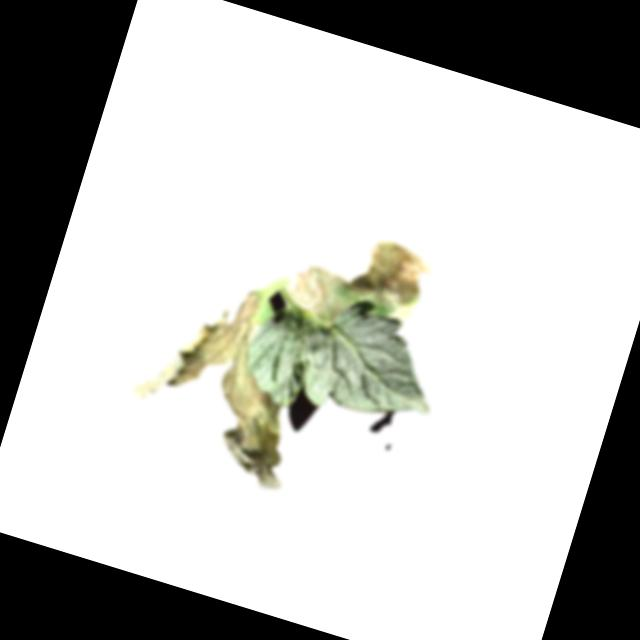Late_blight: (113, 265, 333, 495), (282, 212, 441, 348)
